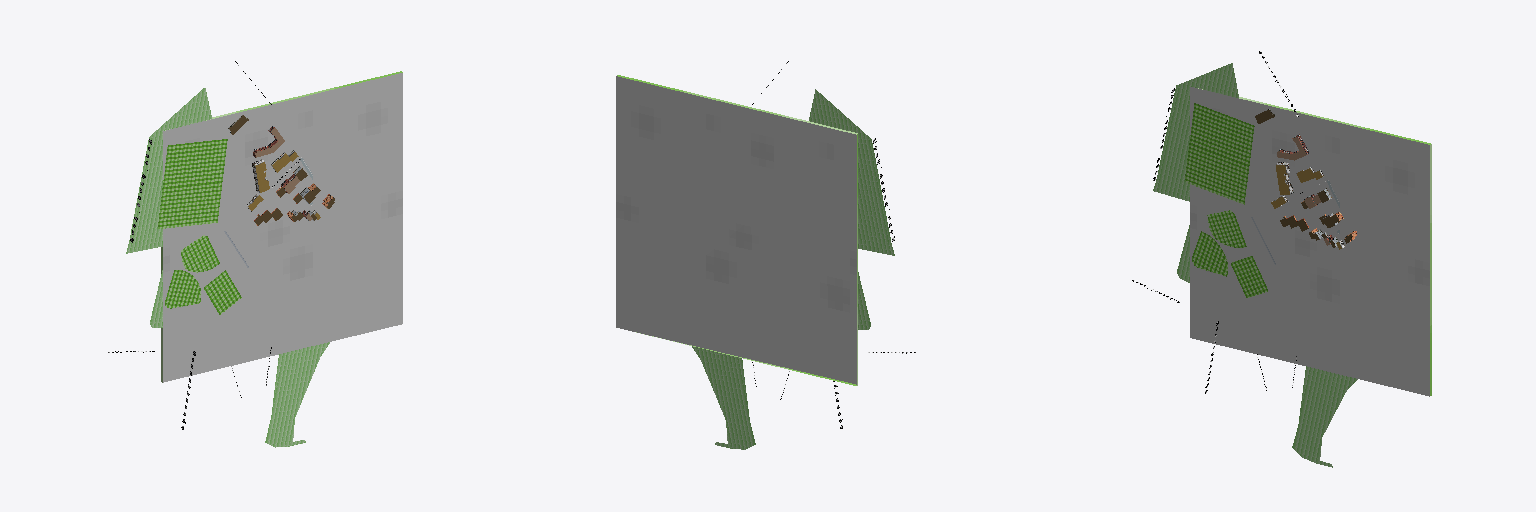
3 views of the same model, side by side, from view 1: azimuth 30°, elevation 25°; view 2: azimuth 150°, elevation 25°; view 3: azimuth 330°, elevation 25° (orthographic).
Visible parts, largest first — view 1: POLYGON, BUILDING; view 2: POLYGON; view 3: POLYGON, BUILDING.
Boxes of the visible parts, <box> form: POLYGON: <box>126,71,402,447</box>; BUILDING: <box>228,115,334,225</box>; POLYGON: <box>616,75,894,449</box>; POLYGON: <box>1153,63,1431,467</box>; BUILDING: <box>1255,109,1356,249</box>.
Bounding box in the file's own units: 755 × 973 × 29.
4 materials, 4 textured.